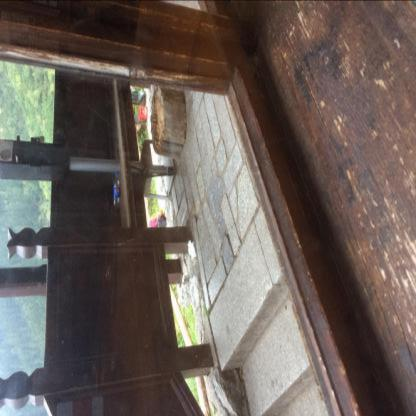Bottle cap: (113, 173, 121, 206)
Paper: (188, 240, 197, 260)
